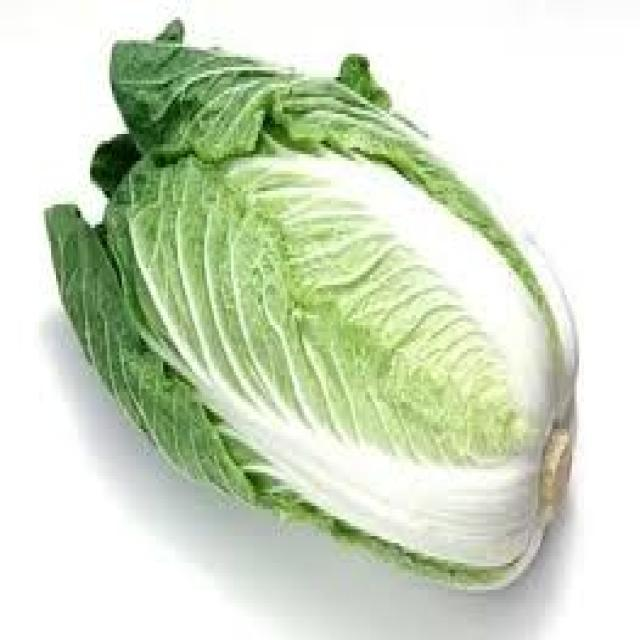food_waste: (44, 23, 574, 586)
